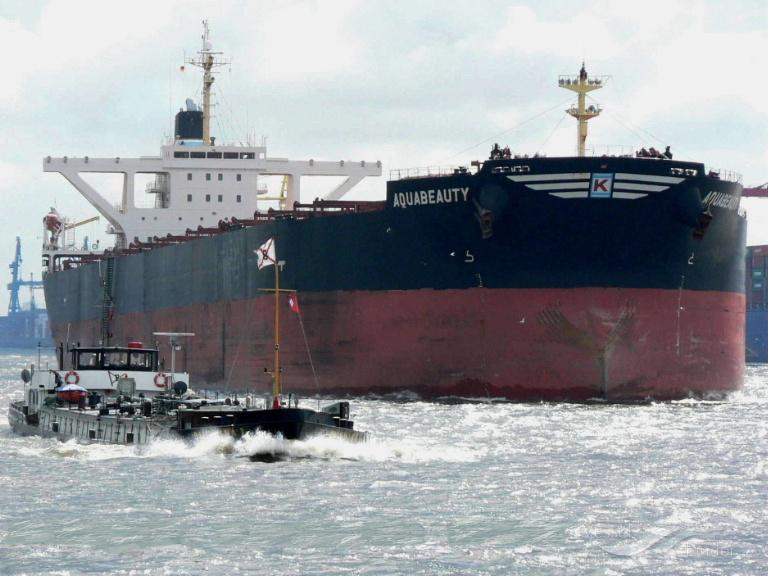OCR: (388, 190, 474, 216)
